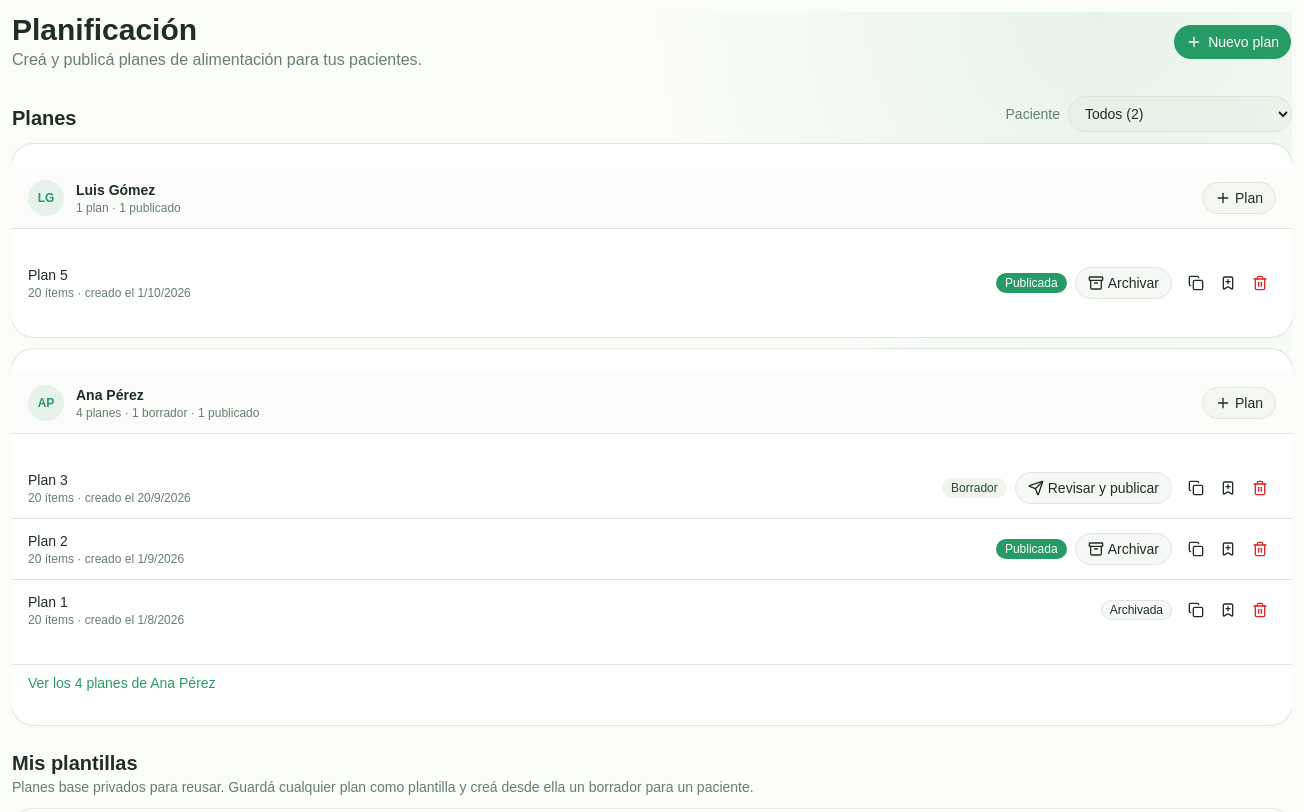
Test case: ver todos los planes de un paciente lo filtra
Step 1. Click the button "Ver los 4 planes de Ana Pérez" → [51, 683], box top-left (12, 664), bottom-right (1292, 701)
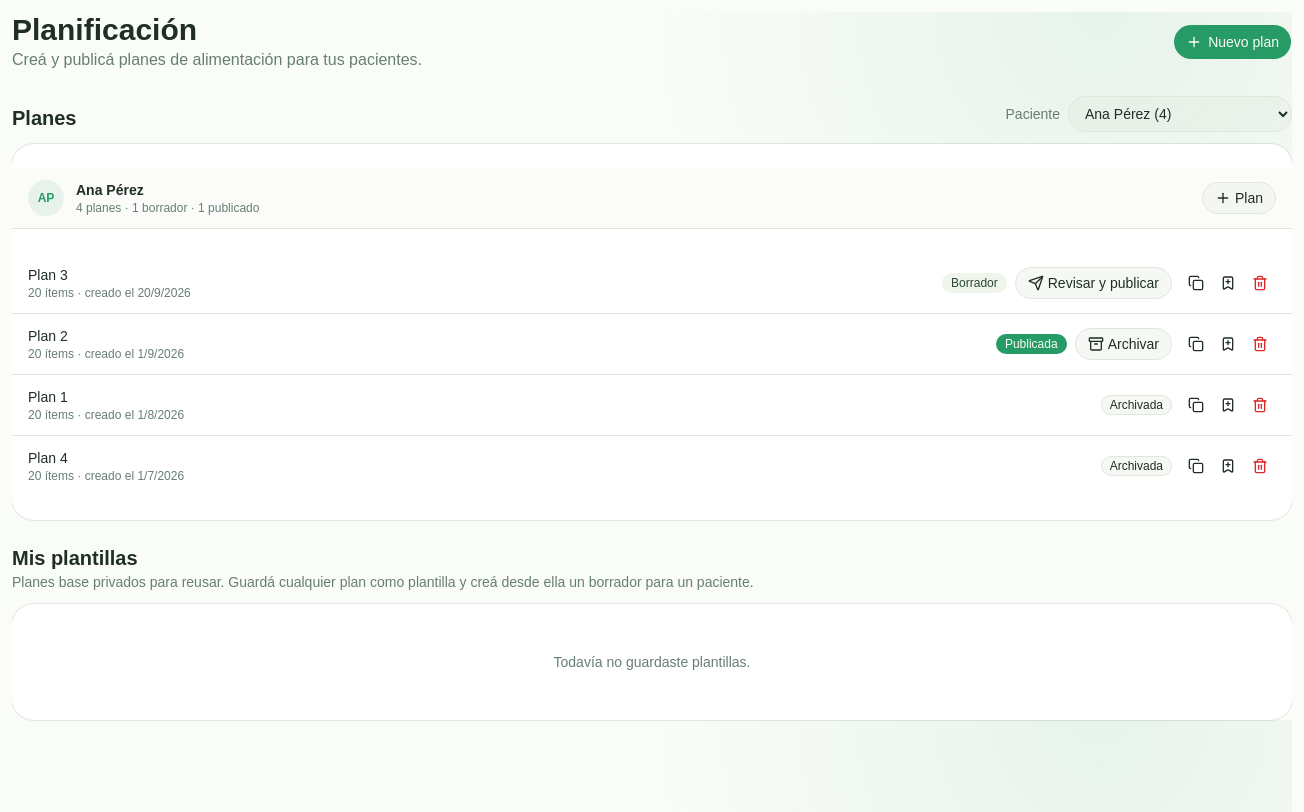
expect the number of links "Plan 3" is 4: met, box top-left (28, 267), bottom-right (68, 283); top-left (28, 328), bottom-right (68, 344); top-left (28, 389), bottom-right (68, 405); top-left (28, 450), bottom-right (68, 466)
expect the dropdown labelled "Paciente" shows "Ana Pérez (4)": met, box top-left (1068, 96), bottom-right (1292, 132)
